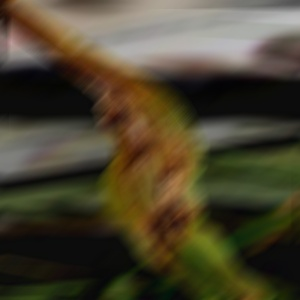Brown_Spot: (74, 73, 153, 161), (131, 213, 189, 260), (155, 195, 210, 241)
